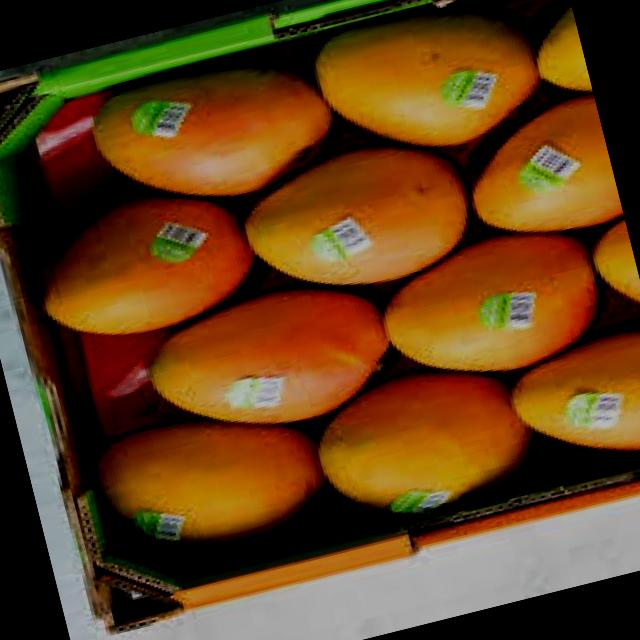Mango: (79, 40, 338, 227), (88, 388, 338, 579), (140, 274, 404, 448), (234, 135, 478, 309), (17, 178, 257, 352), (309, 0, 538, 174), (378, 226, 612, 396), (314, 358, 540, 528), (461, 96, 618, 248), (515, 334, 640, 478)
